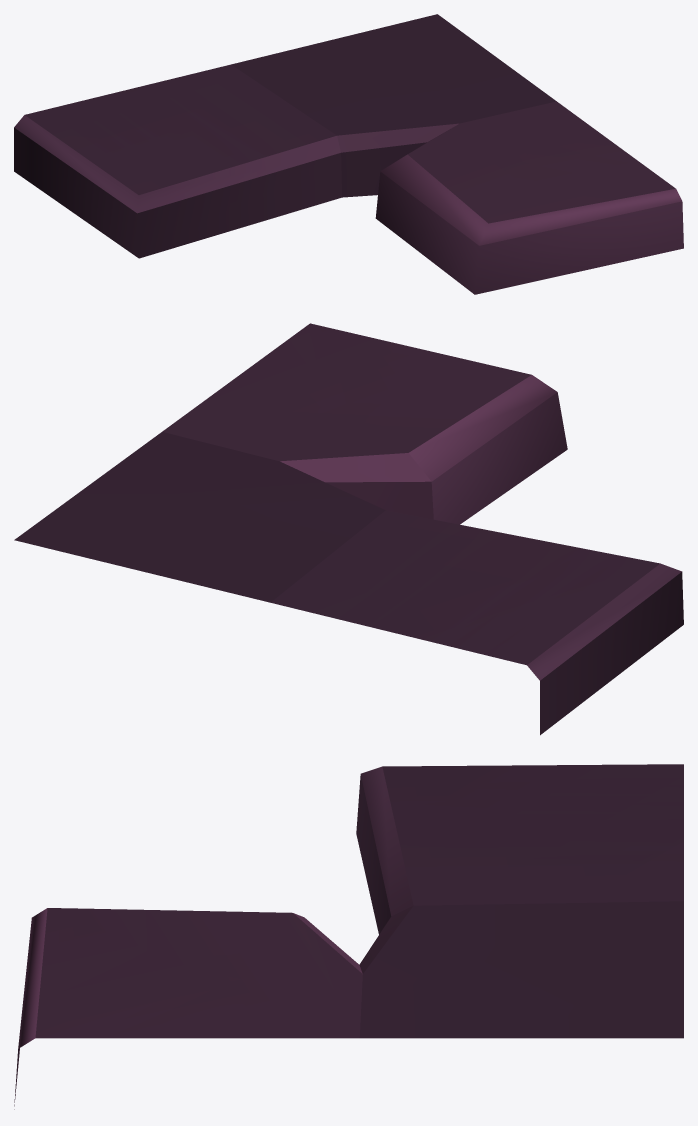
Rendered from floor_pit_edge_corner_alt_1.fbx.
The picture shows the model from 3 angles, top to bottom: view 1: azimuth 30°, elevation 25°; view 2: azimuth 150°, elevation 25°; view 3: azimuth 270°, elevation 25°; orthographic projection. The views are drawn at different scales.
Visible parts, largest first — view 1: floor_pit_edge_corner_alt_1; view 2: floor_pit_edge_corner_alt_1; view 3: floor_pit_edge_corner_alt_1.
Boxes of the visible parts, <box> form: floor_pit_edge_corner_alt_1: <box>14,14,683,294</box>; floor_pit_edge_corner_alt_1: <box>14,323,683,735</box>; floor_pit_edge_corner_alt_1: <box>14,764,683,1109</box>.
Size of the model in its own units: 205 by 28.42 by 207.
